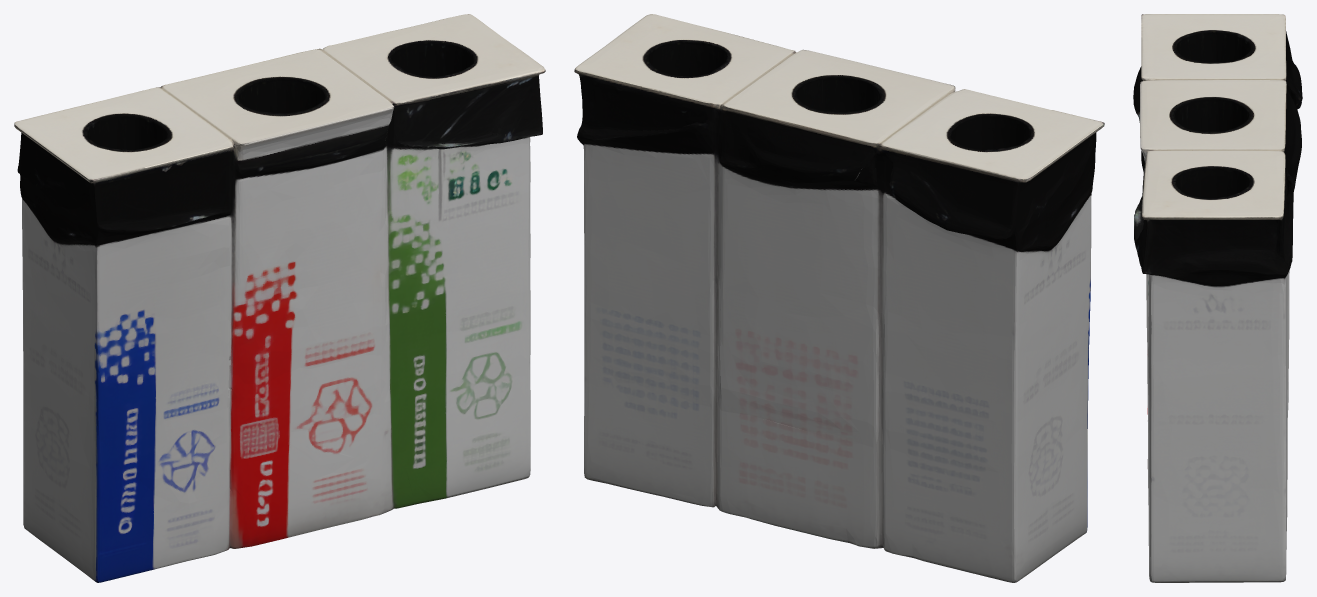
Rendered from trash.fbx.
3 views of the same model, side by side, from view 1: azimuth 30°, elevation 25°; view 2: azimuth 150°, elevation 25°; view 3: azimuth 270°, elevation 25° (orthographic). The views are drawn at different scales.
Visible parts, largest first — view 1: world; view 2: world; view 3: world.
Boxes of the visible parts, box(x1,y1,x2,y2) form: world: box(14, 14, 545, 582); world: box(574, 14, 1104, 582); world: box(1133, 14, 1302, 582).
Size of the model in its own units: 0.9999 by 0.8588 by 0.3522.
1 material, 1 textured.
